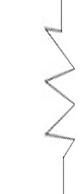resistor: (37, 13, 78, 166)
